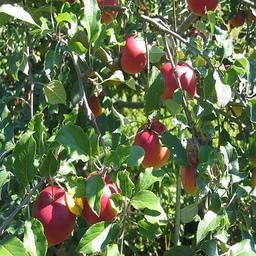apple: (32, 185, 77, 242), (80, 171, 121, 223), (133, 119, 169, 169), (156, 62, 197, 101), (181, 153, 217, 195), (119, 32, 147, 74), (86, 94, 102, 118), (229, 11, 244, 26)
